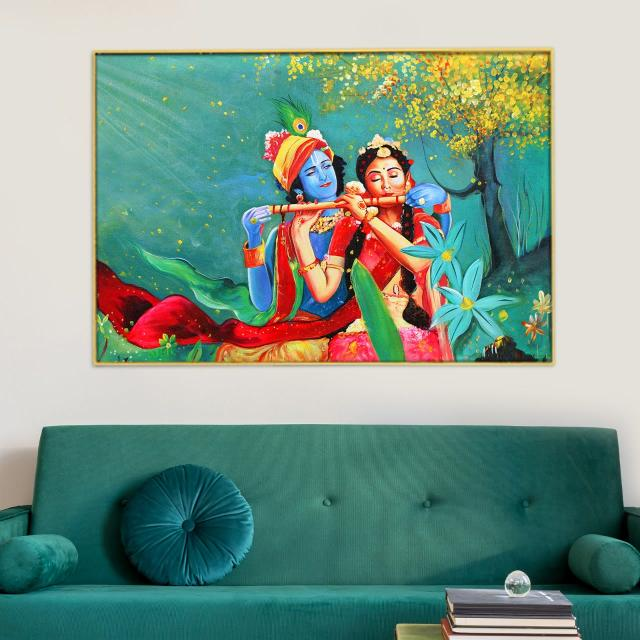painting: (92, 45, 558, 365)
